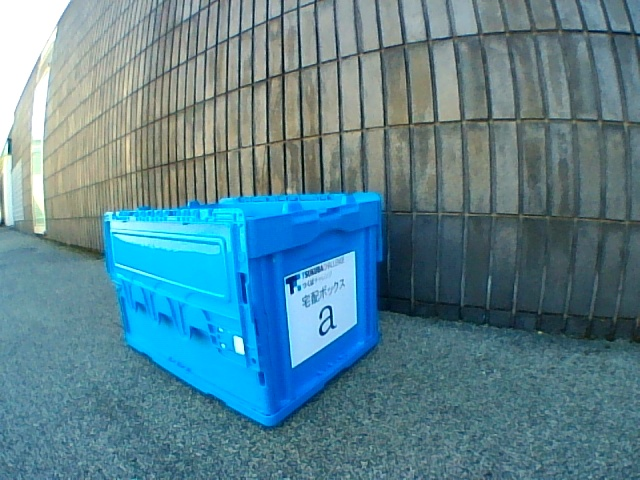blue_box: (103, 192, 382, 427)
tag_a: (302, 281, 342, 335)
